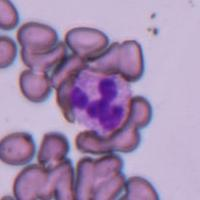N: (68, 71, 132, 135)
